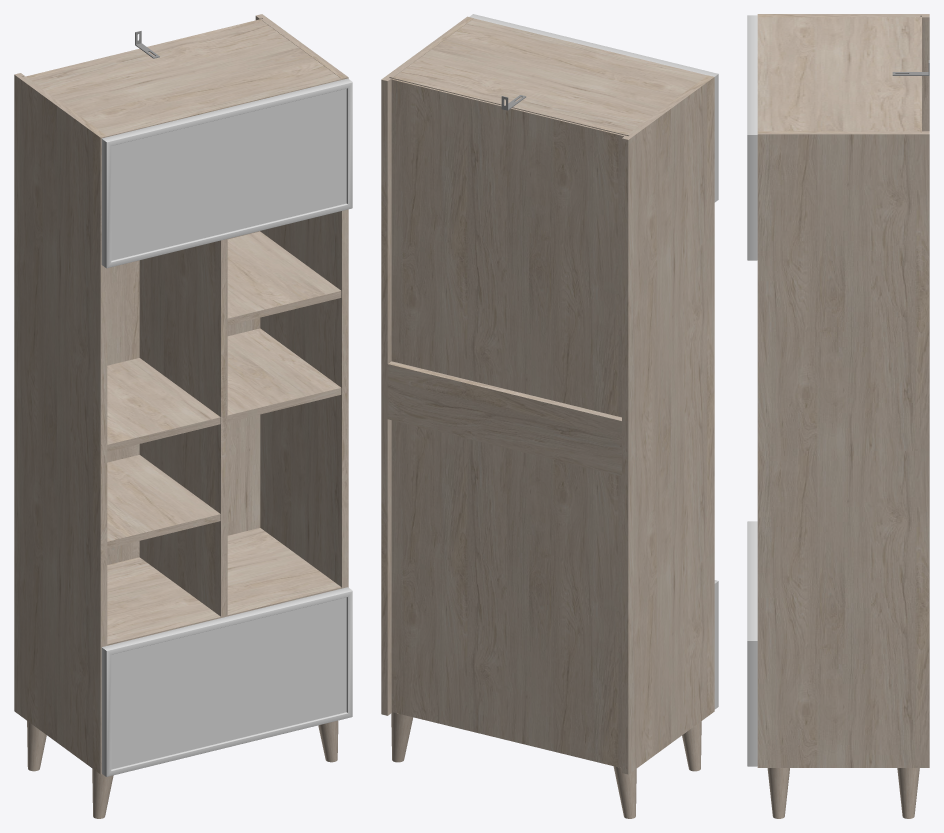
The model's file is asset.glb.
The picture shows the model from 3 angles, left to right: view 1: azimuth 30°, elevation 25°; view 2: azimuth 150°, elevation 25°; view 3: azimuth 270°, elevation 25°; orthographic projection.
Visible parts, largest first — view 1: closet_molodejnaya_1_body, closet_molodejnaya_1_facade_1, closet_molodejnaya_1_facade_2, closet_molodejnaya_1_legs; view 2: closet_molodejnaya_1_body, closet_molodejnaya_1_legs, closet_molodejnaya_1_facade_2, closet_molodejnaya_1_facade_1; view 3: closet_molodejnaya_1_body, closet_molodejnaya_1_facade_1, closet_molodejnaya_1_facade_2, closet_molodejnaya_1_legs.
Boxes of the visible parts, x1,y1,x2,y2 form: closet_molodejnaya_1_body: [14, 14, 348, 774]; closet_molodejnaya_1_facade_1: [101, 587, 352, 776]; closet_molodejnaya_1_facade_2: [101, 78, 352, 268]; closet_molodejnaya_1_legs: [27, 720, 338, 818]; closet_molodejnaya_1_body: [381, 16, 714, 774]; closet_molodejnaya_1_legs: [391, 712, 701, 818]; closet_molodejnaya_1_facade_2: [469, 14, 718, 202]; closet_molodejnaya_1_facade_1: [714, 580, 718, 709]; closet_molodejnaya_1_body: [757, 14, 929, 767]; closet_molodejnaya_1_facade_1: [747, 521, 757, 766]; closet_molodejnaya_1_facade_2: [747, 15, 757, 260]; closet_molodejnaya_1_legs: [767, 768, 919, 818].
Bounding box in the file's own units: 0.6101 × 1.65 × 0.3905.
Materials: 3 (1 with a texture image).
